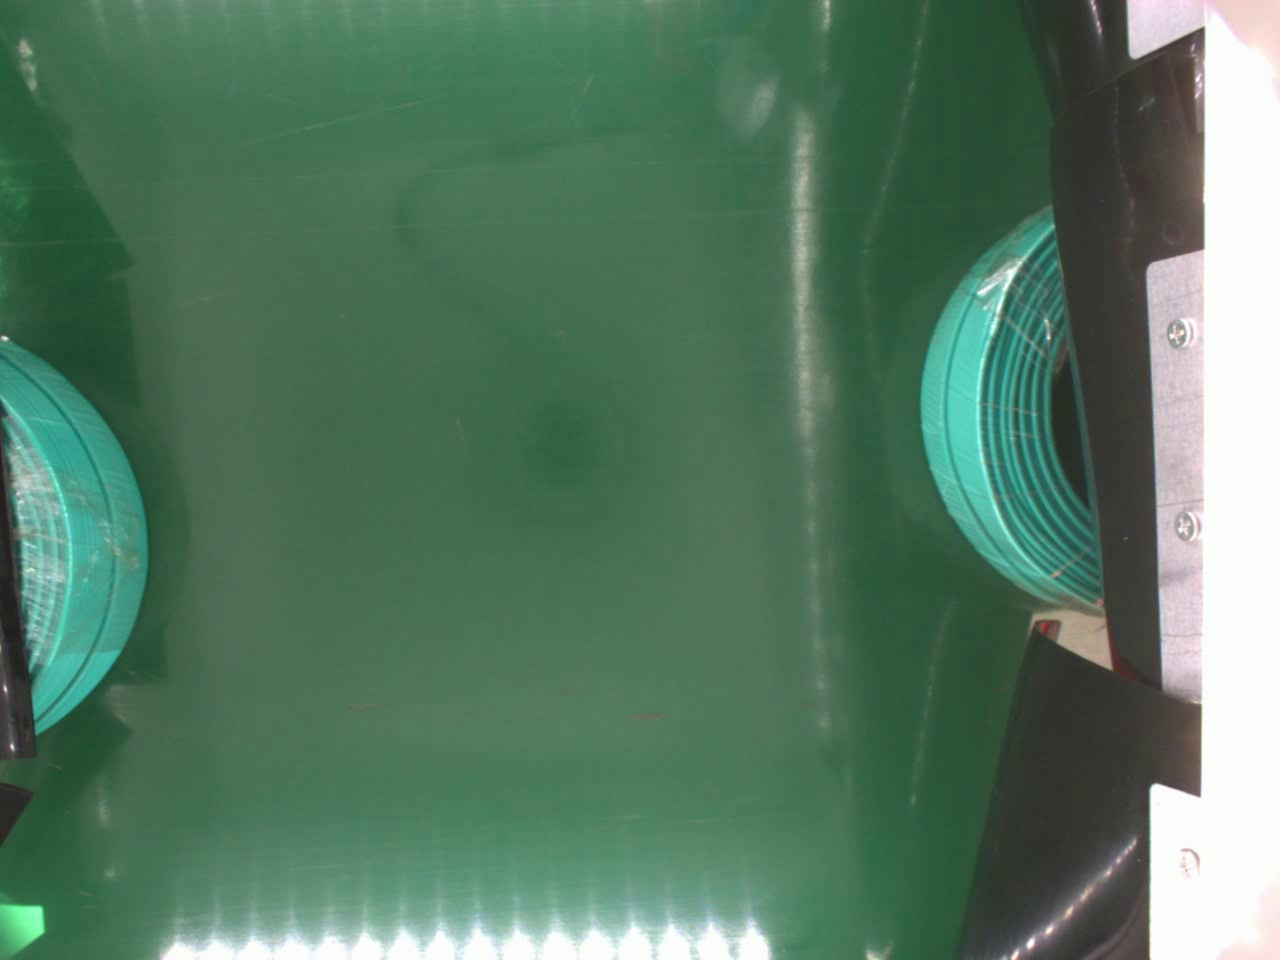green: (912, 198, 1099, 611), (0, 330, 152, 732)
